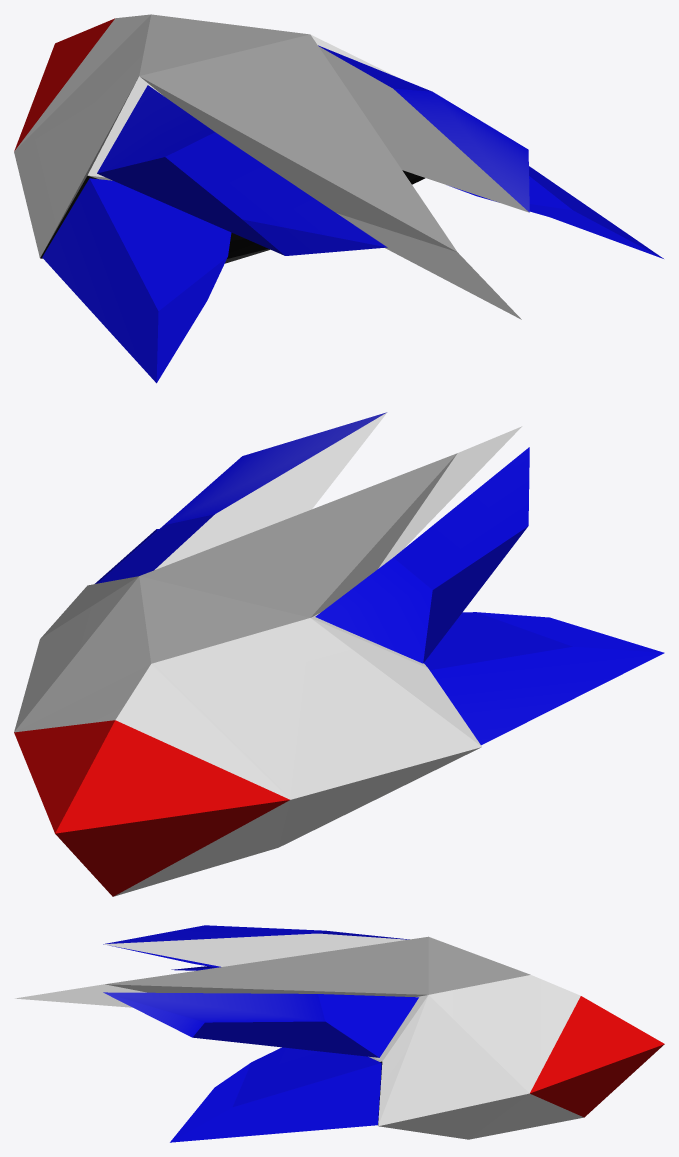
The model's file is ship_auron_fighter_light_2.fbx.
3 views of the same model, one above another, from view 1: azimuth 30°, elevation 25°; view 2: azimuth 150°, elevation 25°; view 3: azimuth 270°, elevation 25° (orthographic). The views are drawn at different scales.
Visible parts, largest first — view 1: ship_auron_fighter_light_2.mc, Cube, Cube.003, Cube.002, Cube.001; view 2: ship_auron_fighter_light_2.mc, Cube.003, Cube, Cube.002; view 3: ship_auron_fighter_light_2.mc, Cube.001, Cube.002, Cube.003.
Part boxes in pixels (x1,y1,x2,y2): ship_auron_fighter_light_2.mc: [14, 14, 521, 319]; Cube: [42, 178, 231, 383]; Cube.003: [97, 85, 387, 255]; Cube.002: [318, 45, 529, 212]; Cube.001: [449, 166, 663, 258]; ship_auron_fighter_light_2.mc: [14, 426, 522, 896]; Cube.003: [315, 447, 529, 663]; Cube: [424, 612, 664, 745]; Cube.002: [98, 412, 387, 583]; ship_auron_fighter_light_2.mc: [15, 936, 664, 1139]; Cube.001: [170, 1047, 381, 1142]; Cube.002: [103, 992, 418, 1057]; Cube.003: [103, 925, 409, 967].
Bounding box in the file's own units: 1409 × 585 × 2245.
